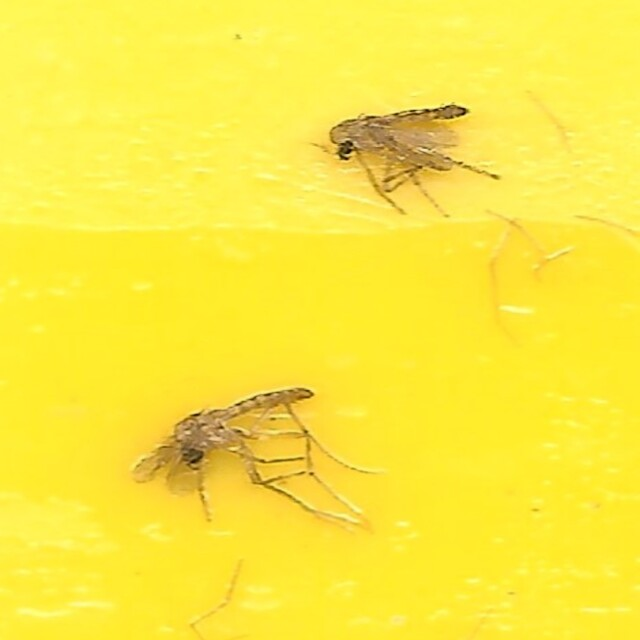Nematocera: (136, 381, 370, 542), (317, 98, 504, 207)
